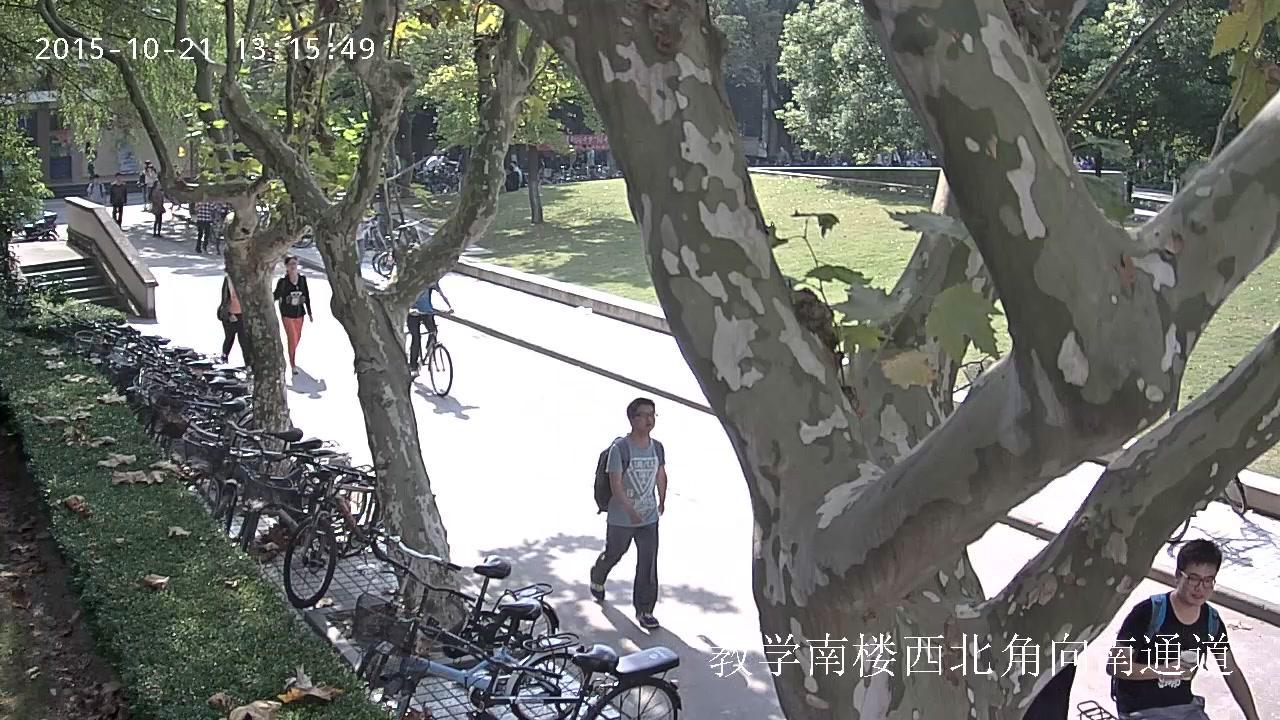face: (1179, 563, 1216, 605), (634, 403, 654, 432), (287, 259, 297, 273), (157, 181, 161, 188), (147, 167, 151, 173), (93, 178, 98, 182), (510, 162, 514, 167), (116, 175, 120, 179), (780, 147, 784, 151), (758, 138, 761, 143)
